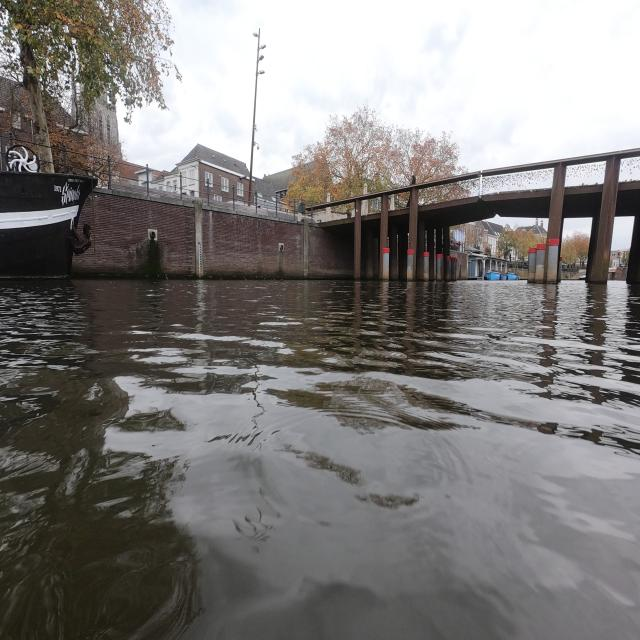boat: (0, 167, 97, 278)
sky: (117, 0, 640, 176)
wall: (73, 189, 353, 279)
water: (0, 272, 640, 640)
